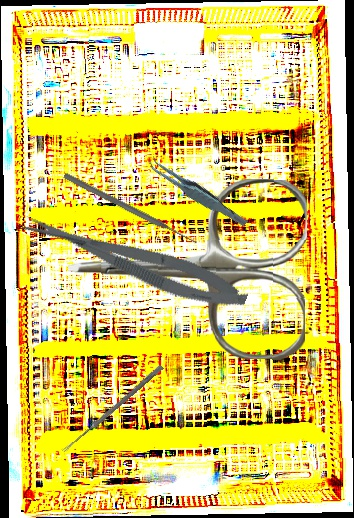Iris Scissors: (66, 175, 308, 361)
Micro Scissor: (18, 199, 253, 321)
Pusher: (62, 171, 200, 248)
Surgical Spoon: (61, 363, 164, 455)
Tissue Forceps: (145, 139, 249, 245)
